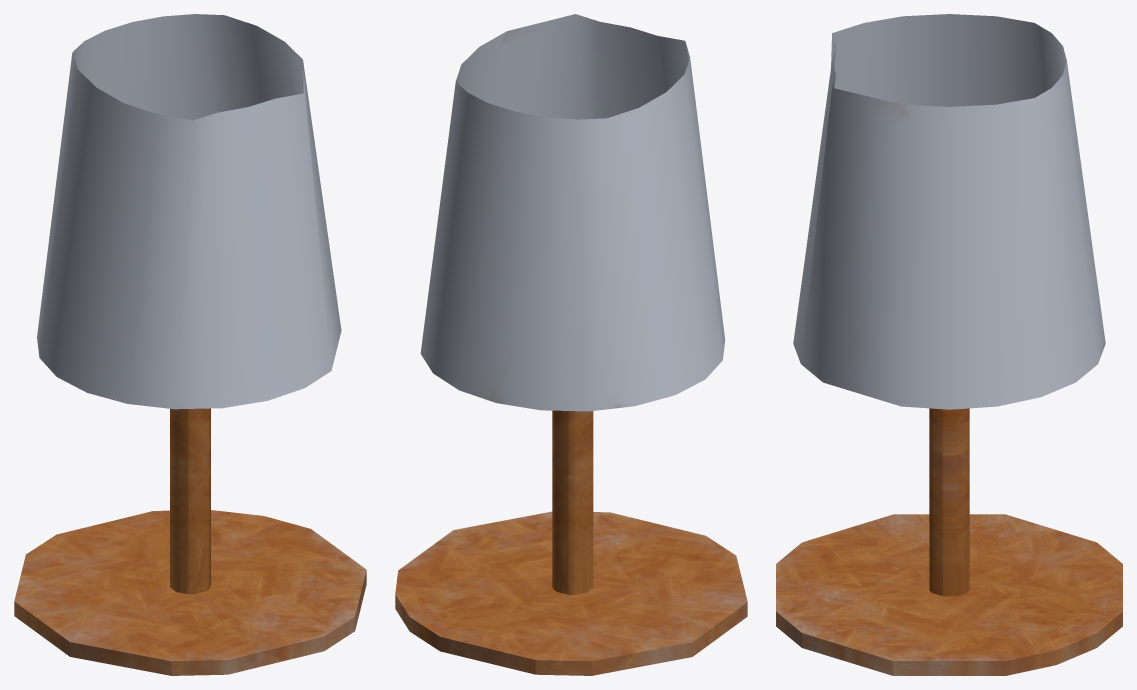
File: LamparaDeMesa.fbx
The picture shows the model from 3 angles, left to right: view 1: azimuth 30°, elevation 25°; view 2: azimuth 150°, elevation 25°; view 3: azimuth 270°, elevation 25°; orthographic projection. The views are drawn at different scales.
Visible parts, largest first — view 1: pCylinder2, pCylinder1; view 2: pCylinder2, pCylinder1; view 3: pCylinder2, pCylinder1.
Part boxes in pixels (x1,y1,x2,y2): pCylinder2: (37,14,341,409); pCylinder1: (14,408,366,675); pCylinder2: (420,14,725,411); pCylinder1: (395,410,747,675); pCylinder2: (793,14,1105,409); pCylinder1: (776,408,1122,675).
Size of the model in its own units: 0.7953 by 1.37 by 0.7953.
1 material, 1 textured.
